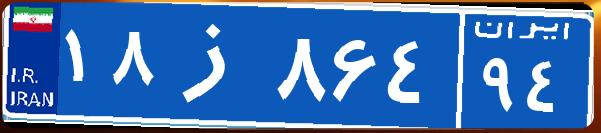1: (57, 26, 110, 107)
4: (385, 28, 445, 110), (525, 38, 570, 115)
6: (330, 28, 385, 110)
8: (273, 28, 330, 110), (110, 28, 158, 105)
9: (475, 38, 525, 113)
ز: (158, 15, 273, 115)
